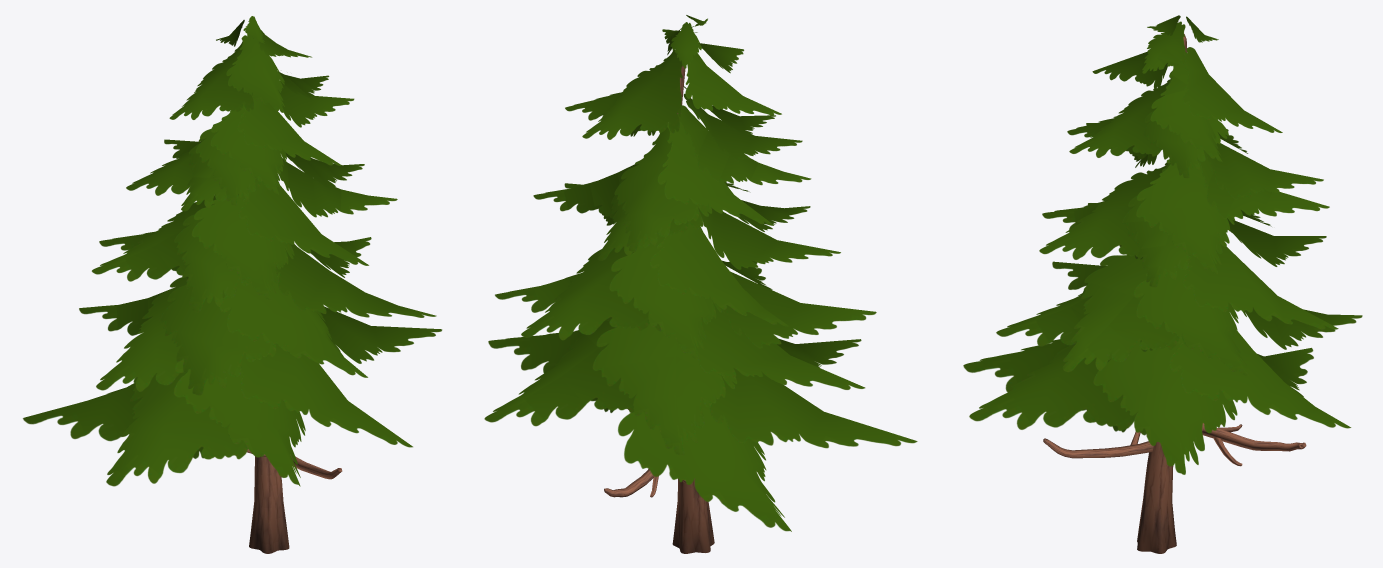
Rendered from tree_fir_c.glb.
3 renders of one model, left to right at view 1: azimuth 30°, elevation 25°; view 2: azimuth 150°, elevation 25°; view 3: azimuth 270°, elevation 25°, orthographic. The views are drawn at different scales.
Parts seen in each view (by area): view 1: Pine_2; view 2: Pine_2; view 3: Pine_2.
Part boxes in pixels (bbox=[...]): Pine_2: bbox=[23, 16, 442, 553]; Pine_2: bbox=[484, 15, 917, 553]; Pine_2: bbox=[963, 15, 1362, 553].
Size of the model in its own units: 5.73 by 7.38 by 5.22.
2 materials, 2 textured.
